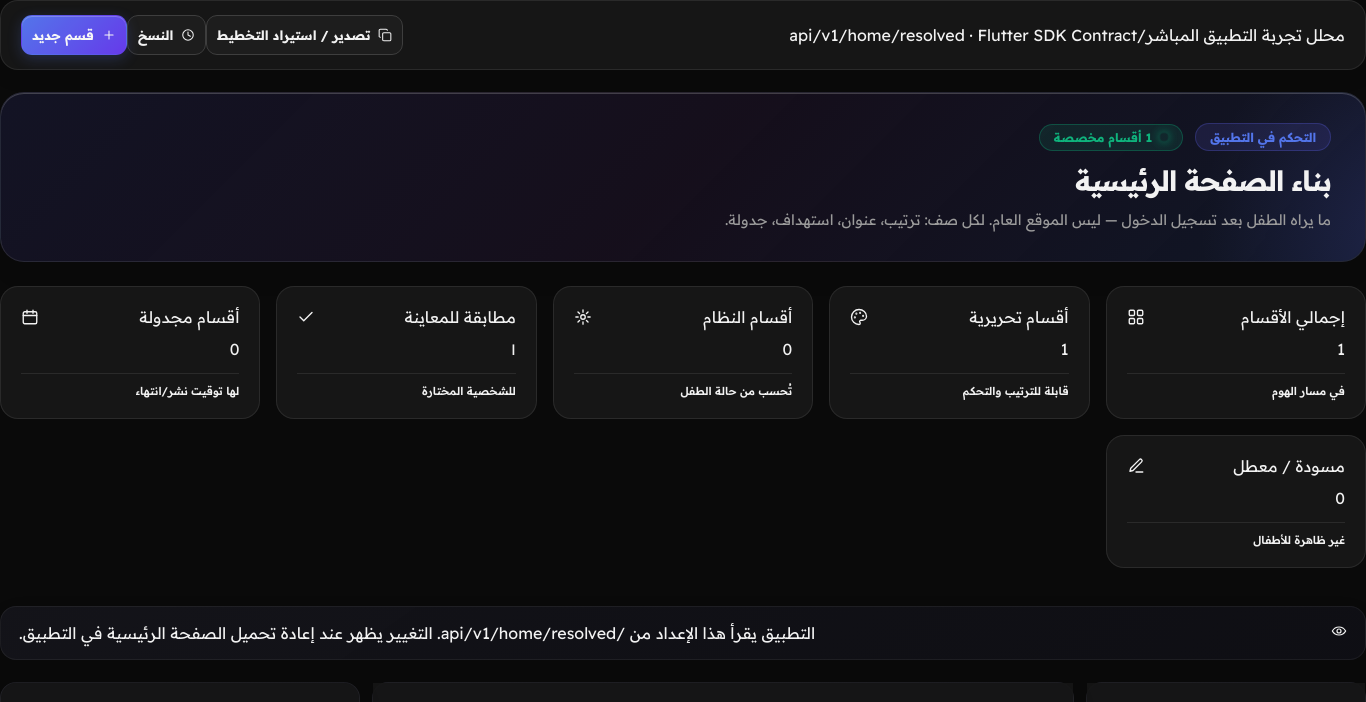
Home Builder › النسخ تُقرأ من الخادم، ونسخة الإنشاء لا تُعرض كقابلة للاستعادة
Click the button "النسخ" at (167, 35), box 127,15 -> 206,55
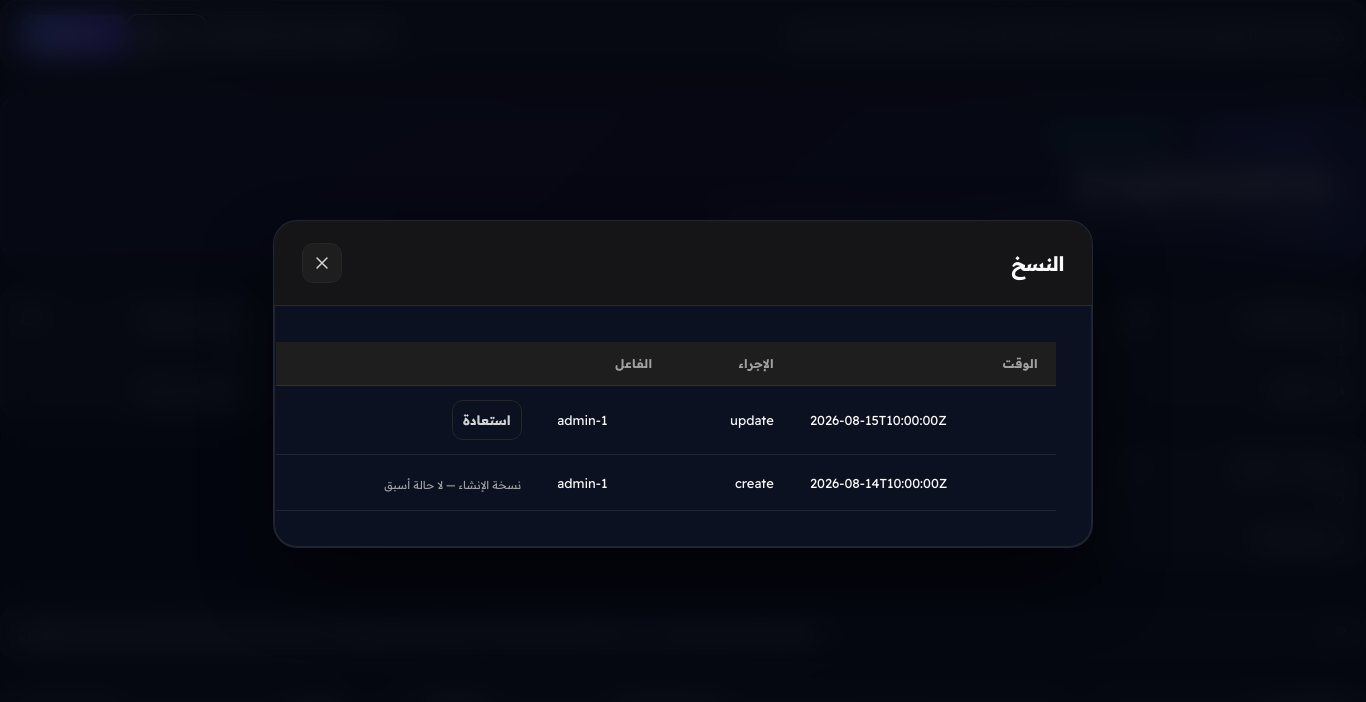
Check: the text "admin-1" is shown 2 times, box 539,386 -> 670,455; 539,455 -> 670,511
Check: the text "نسخة الإنشاء — لا حالة أسبق" is shown, box 384,478 -> 521,492
Check: the number of buttons "استعادة" is 1, box 452,400 -> 521,440
